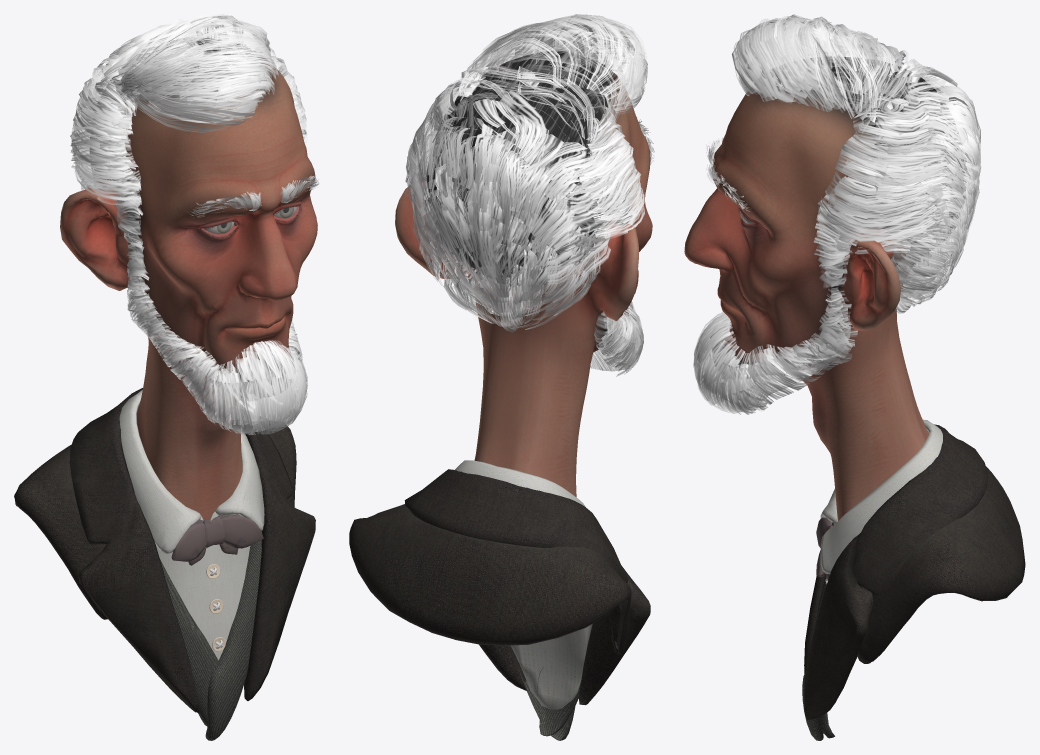
File: stylized_lincoln.glb
The picture shows the model from 3 angles, left to right: view 1: azimuth 30°, elevation 25°; view 2: azimuth 150°, elevation 25°; view 3: azimuth 270°, elevation 25°; orthographic projection.
Parts seen in each view (by area): view 1: Object_4, Object_6, Object_8, Object_3, Object_9; view 2: Object_8, Object_6, Object_4, Object_3; view 3: Object_4, Object_8, Object_6, Object_3, Object_9.
Part boxes in pixels (x1,y1,x2,y2): Object_4: (60,38,317,520); Object_6: (14,388,315,712); Object_8: (70,14,307,434); Object_3: (159,515,263,740); Object_9: (190,175,318,217); Object_8: (405,14,647,376); Object_6: (349,460,650,709); Object_4: (395,51,652,497); Object_3: (517,665,581,740); Object_4: (684,56,966,520); Object_8: (693,14,981,414); Object_6: (804,419,1025,720); Object_3: (802,517,834,740); Object_9: (706,137,750,211).
Size of the model in its own units: 0.2229 by 0.5566 by 0.2407.
Materials: 7 (6 with a texture image).
